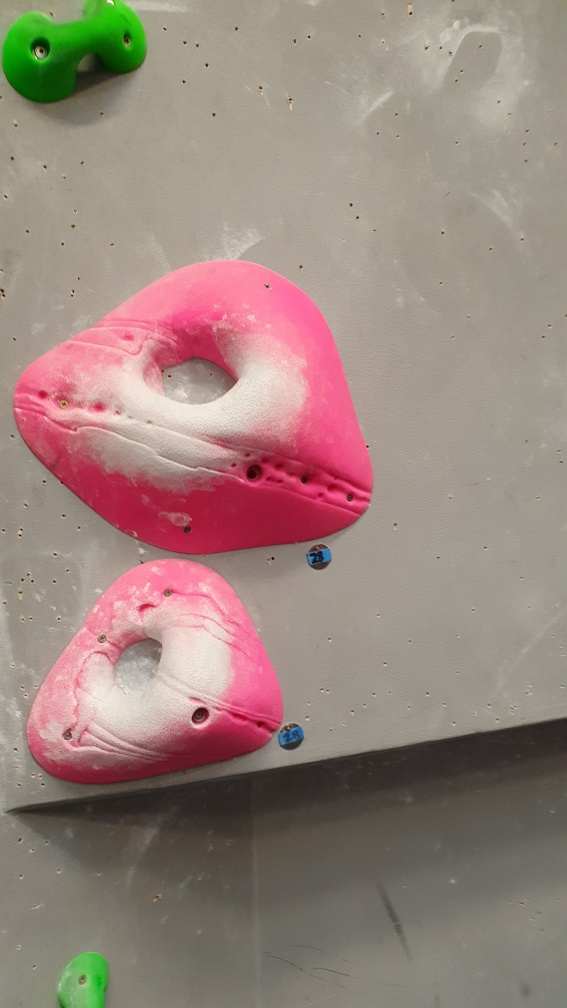Hand Start: (302, 539, 335, 575), (276, 718, 308, 754)
Pocket: (10, 255, 378, 556), (23, 559, 289, 793)
